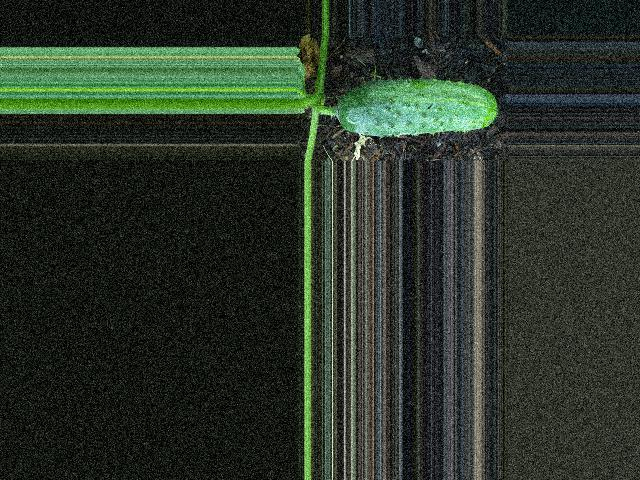cucumber: (337, 78, 499, 136)
